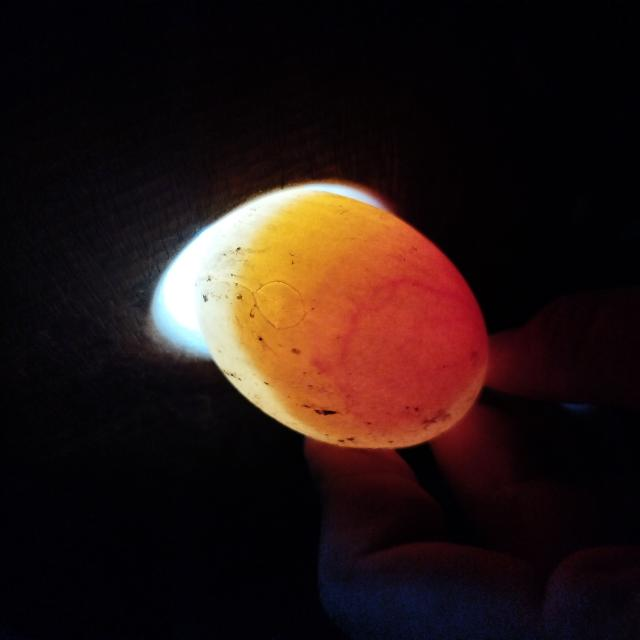Rachadura: (252, 280, 309, 330)
